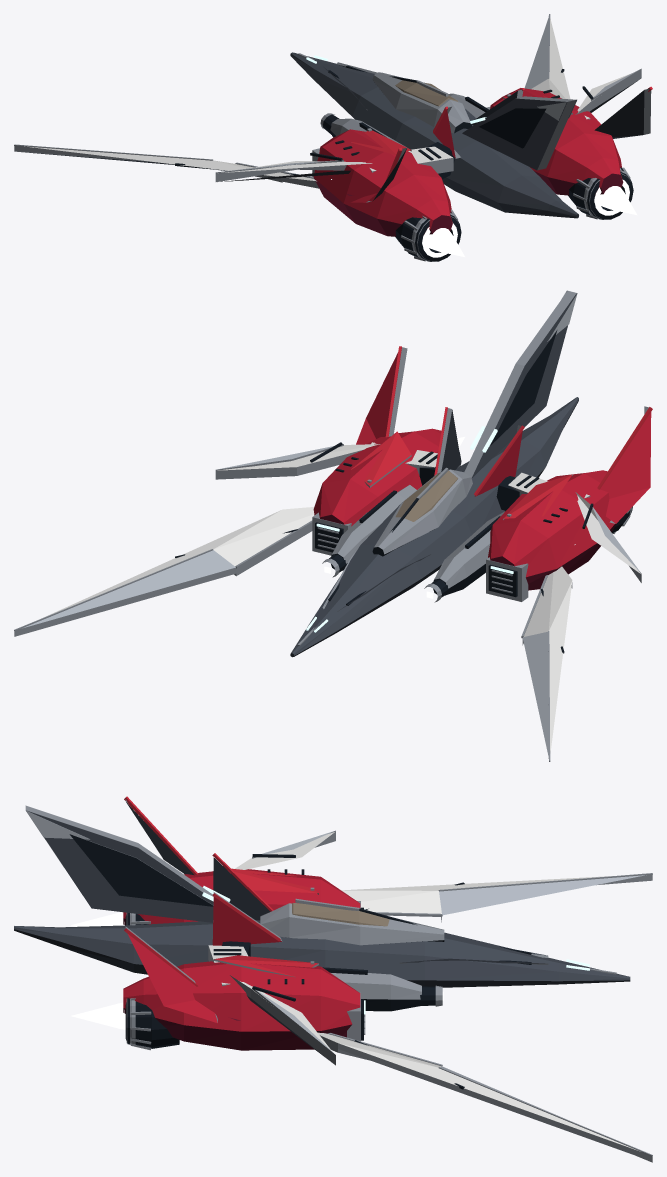
File: wolfen.glb
The picture shows the model from 3 angles, top to bottom: view 1: azimuth 30°, elevation 25°; view 2: azimuth 150°, elevation 25°; view 3: azimuth 270°, elevation 25°; orthographic projection. The views are drawn at different scales.
Parts seen in each view (by area): view 1: Airframe; view 2: Airframe; view 3: Airframe.
Boxes of the visible parts, x1=… form: Airframe: x1=14, y1=14, x2=652, y2=261; Airframe: x1=14, y1=290, x2=652, y2=761; Airframe: x1=14, y1=796, x2=652, y2=1162.
Bounding box in the file's own units: 6.29 × 2.22 × 6.01.
